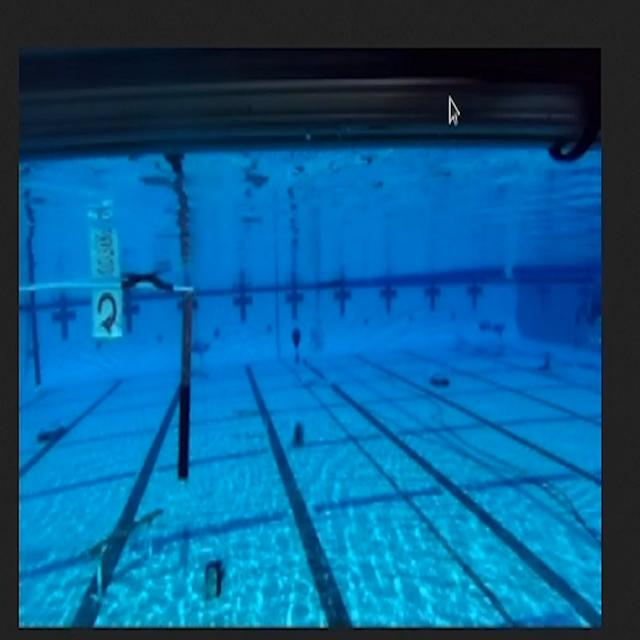Gate: (18, 265, 203, 496)
Path: (70, 501, 174, 615)
